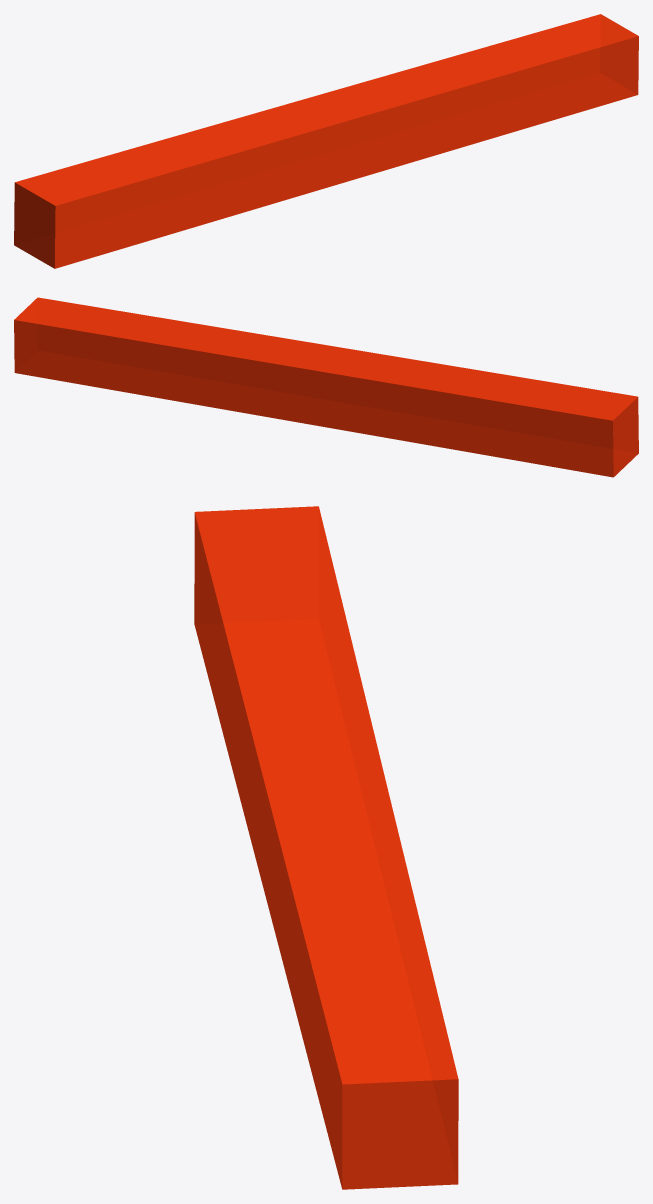
File: Event_421115418_EErechit_23.fbx
3 renders of one model, top to bottom at view 1: azimuth 30°, elevation 25°; view 2: azimuth 150°, elevation 25°; view 3: azimuth 270°, elevation 25°, orthographic. The views are drawn at different scales.
Visible parts, largest first — view 1: Model; view 2: Model; view 3: Model.
Part boxes in pixels (x1=…): Model: x1=14, y1=14, x2=638, y2=268; Model: x1=14, y1=297, x2=638, y2=477; Model: x1=194, y1=506, x2=458, y2=1189.
Size of the model in its own units: 0.8181 by 0.088 by 0.1641.
